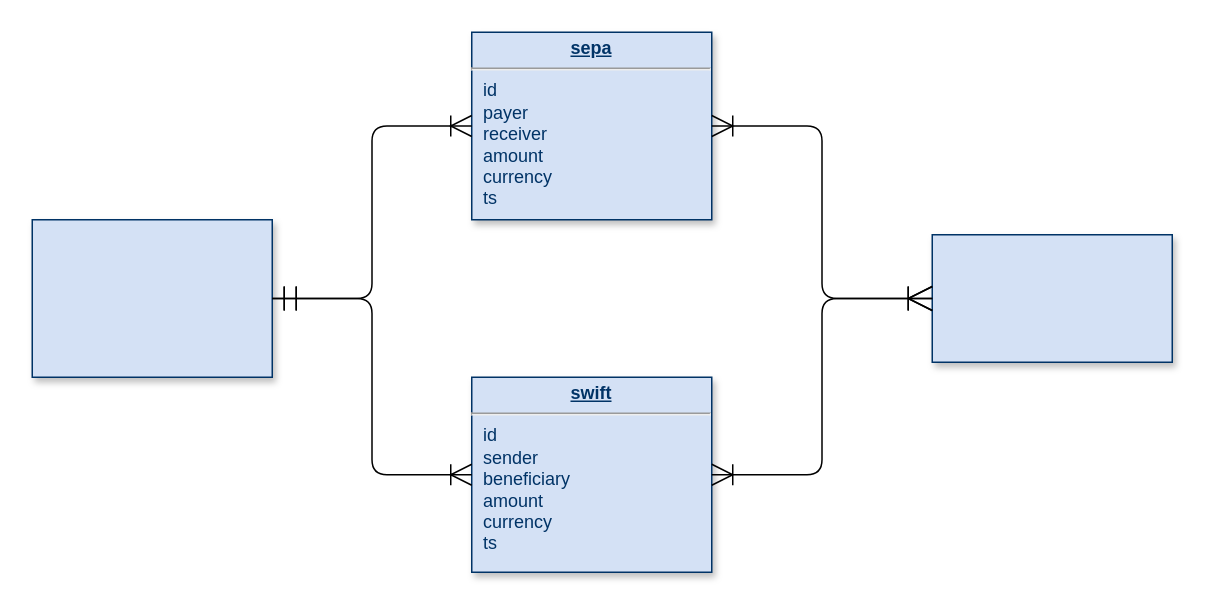
Image size: 1208x609. Some labels were removed from this diagram. Here are the shapes that lost their labels. From the top down, the centre of each, then its label:
At (x=153, y=300): "company_info company_id ibans name address".
At (x=1053, y=300): "exchange_rates currency usd_rate eur_rate".
